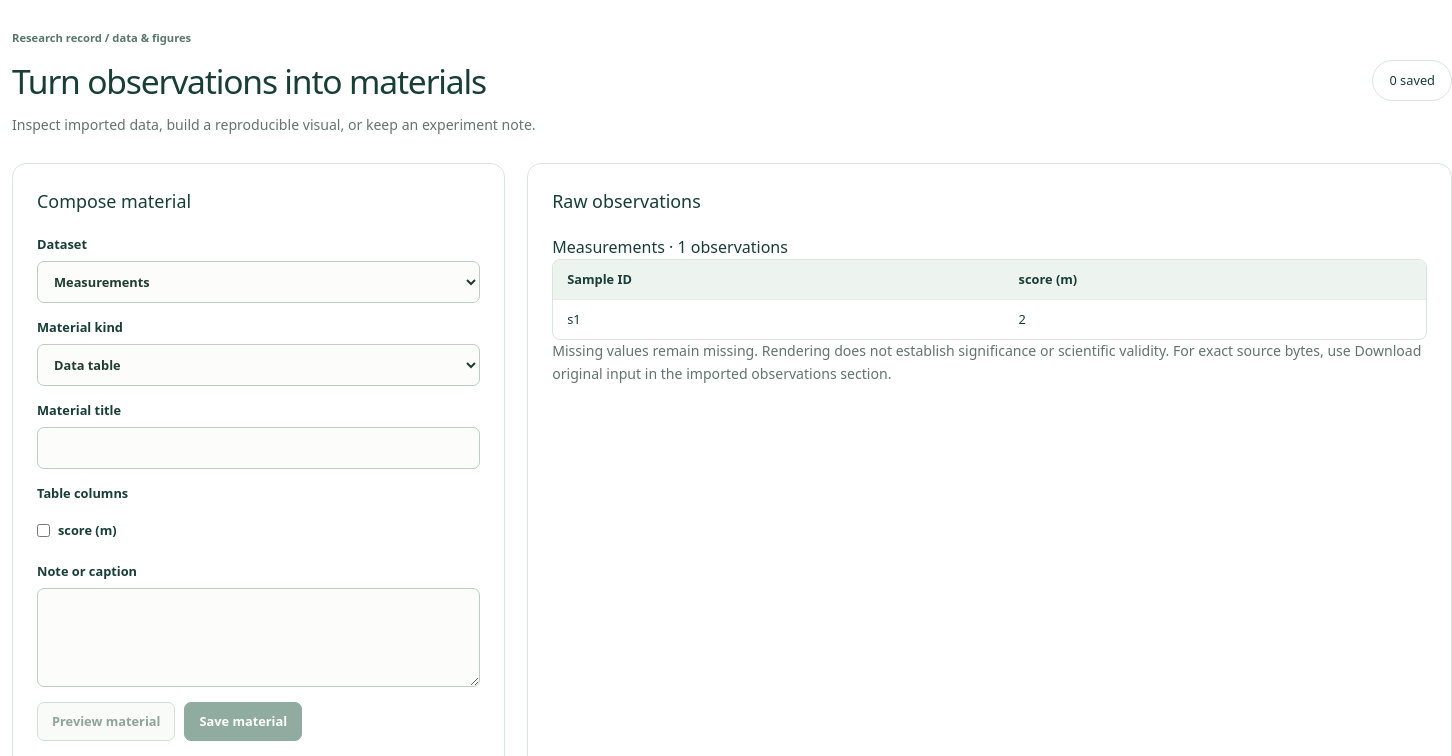
it: requires a fresh preview before saving visual material
The image size is (1452, 756).
Type "Results" into the field labelled "Material title" at (259, 448), box x1=37 y1=427 x2=480 y2=468
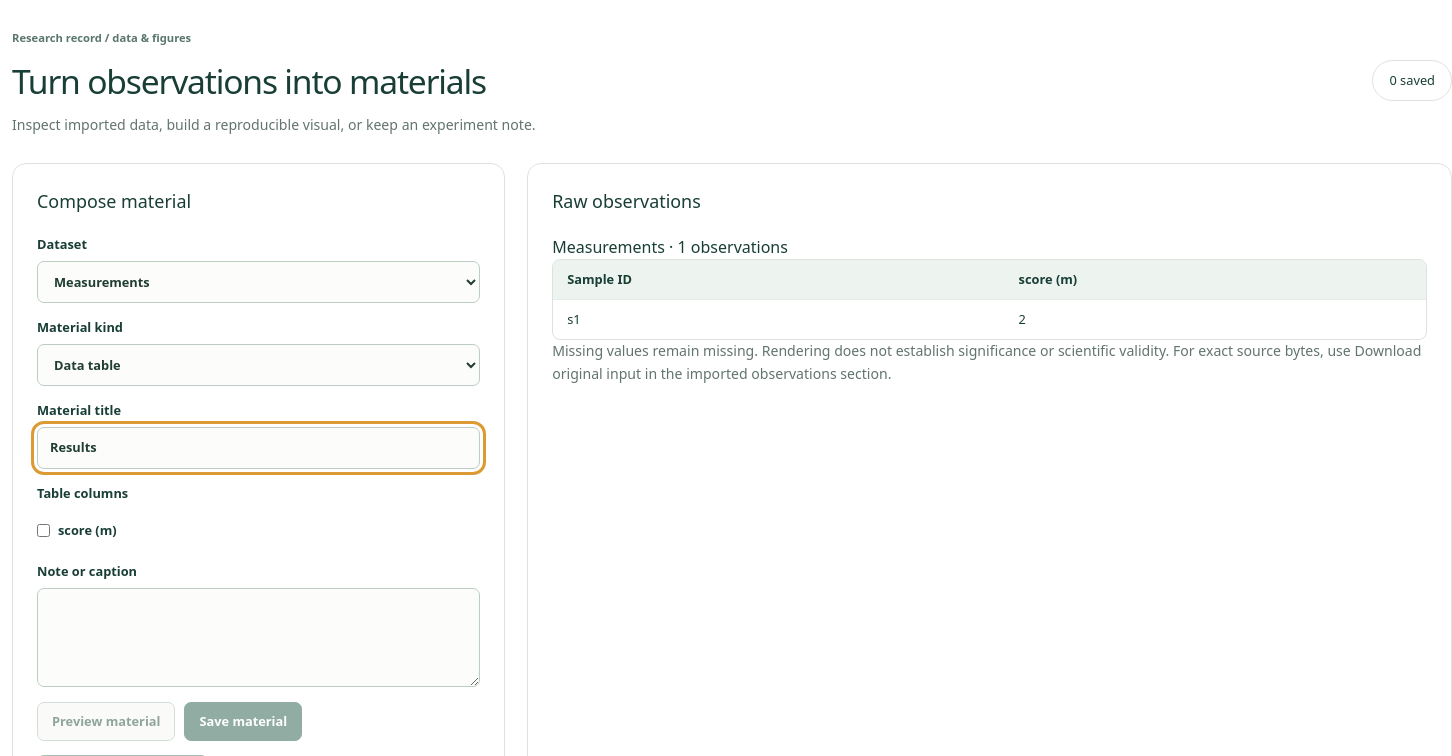
Click the checkbox labelled "score (m)" at (44, 530), box x1=37 y1=524 x2=50 y2=537
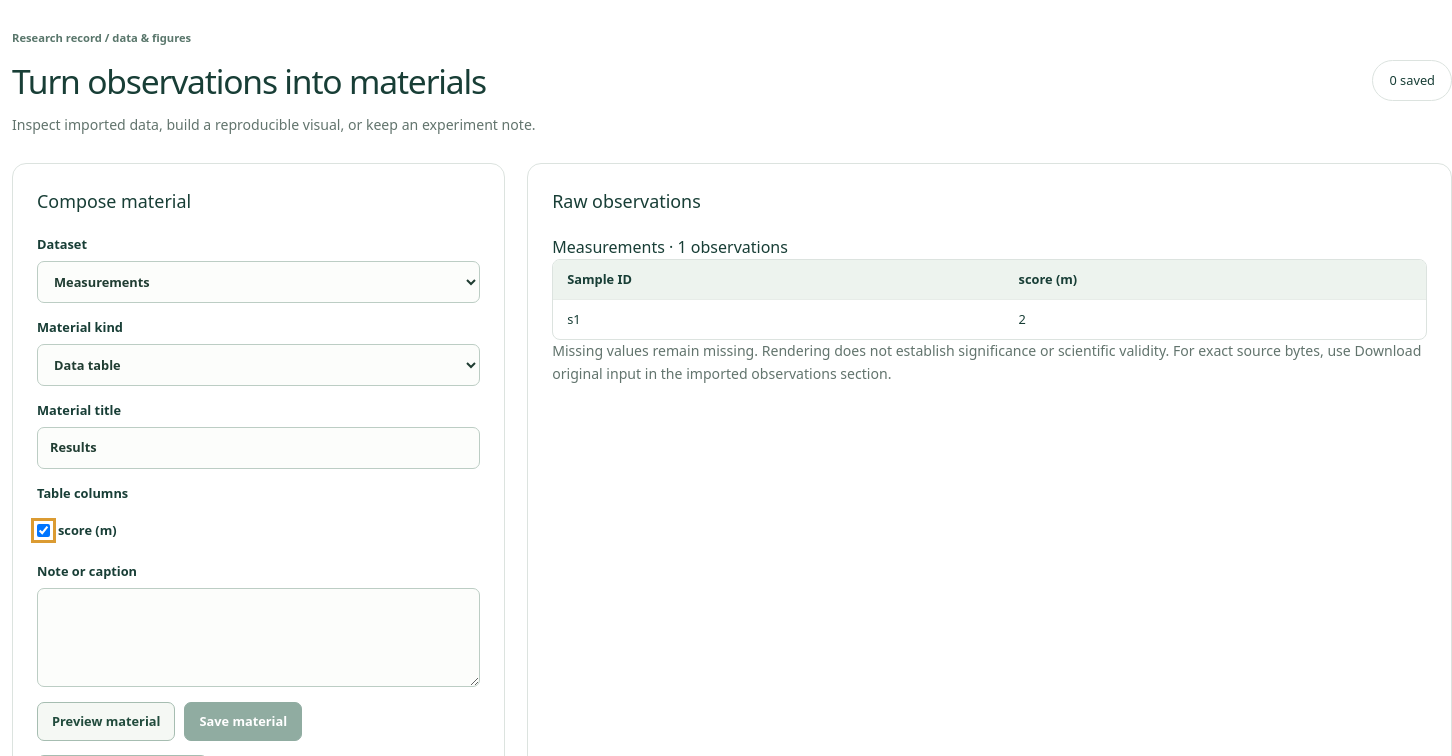
Expected: the button "Save material" is disabled, x1=184 y1=702 x2=302 y2=741
Click the button "Preview material" at (106, 721), box x1=37 y1=702 x2=175 y2=741
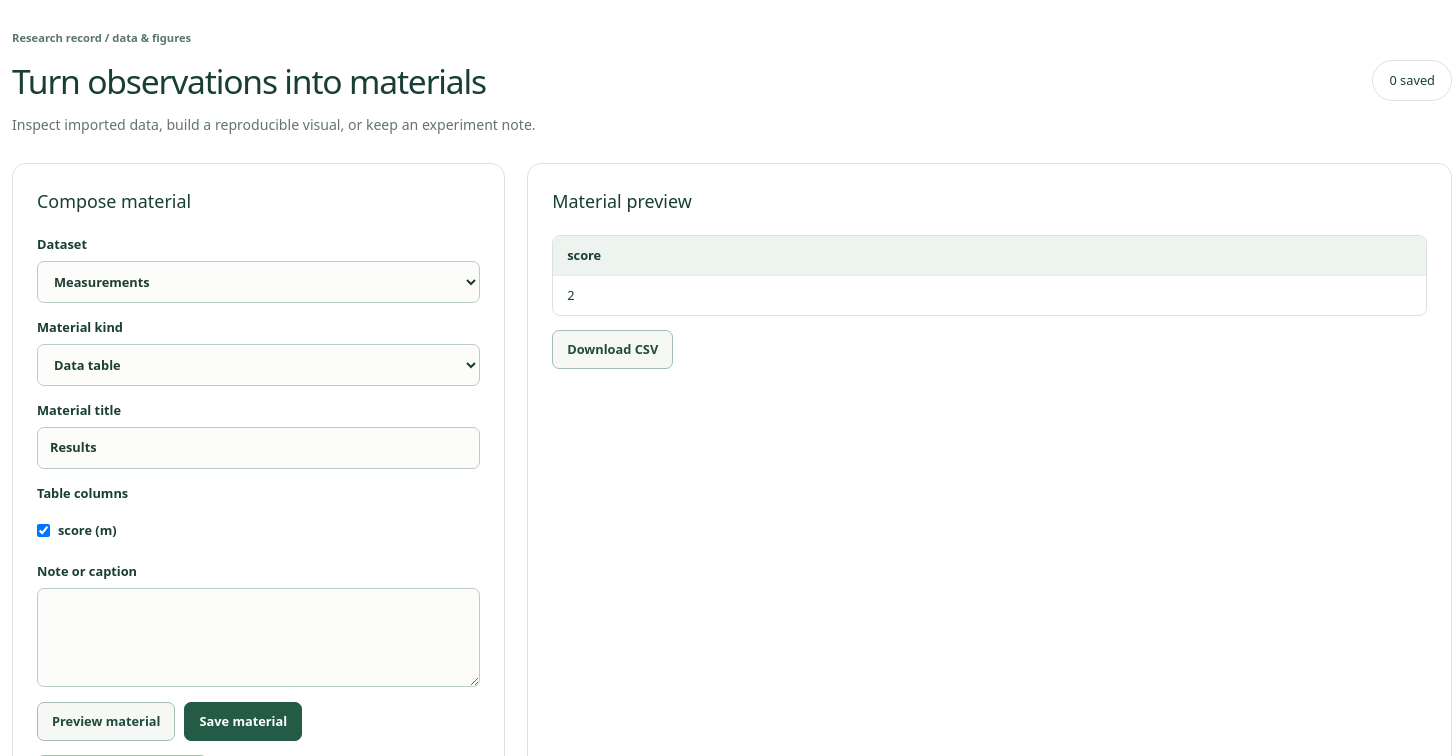
Expected: the button "Save material" is enabled, x1=184 y1=702 x2=302 y2=741
Type " revised" into the field labelled "Material title" at (259, 448), box x1=37 y1=427 x2=480 y2=468
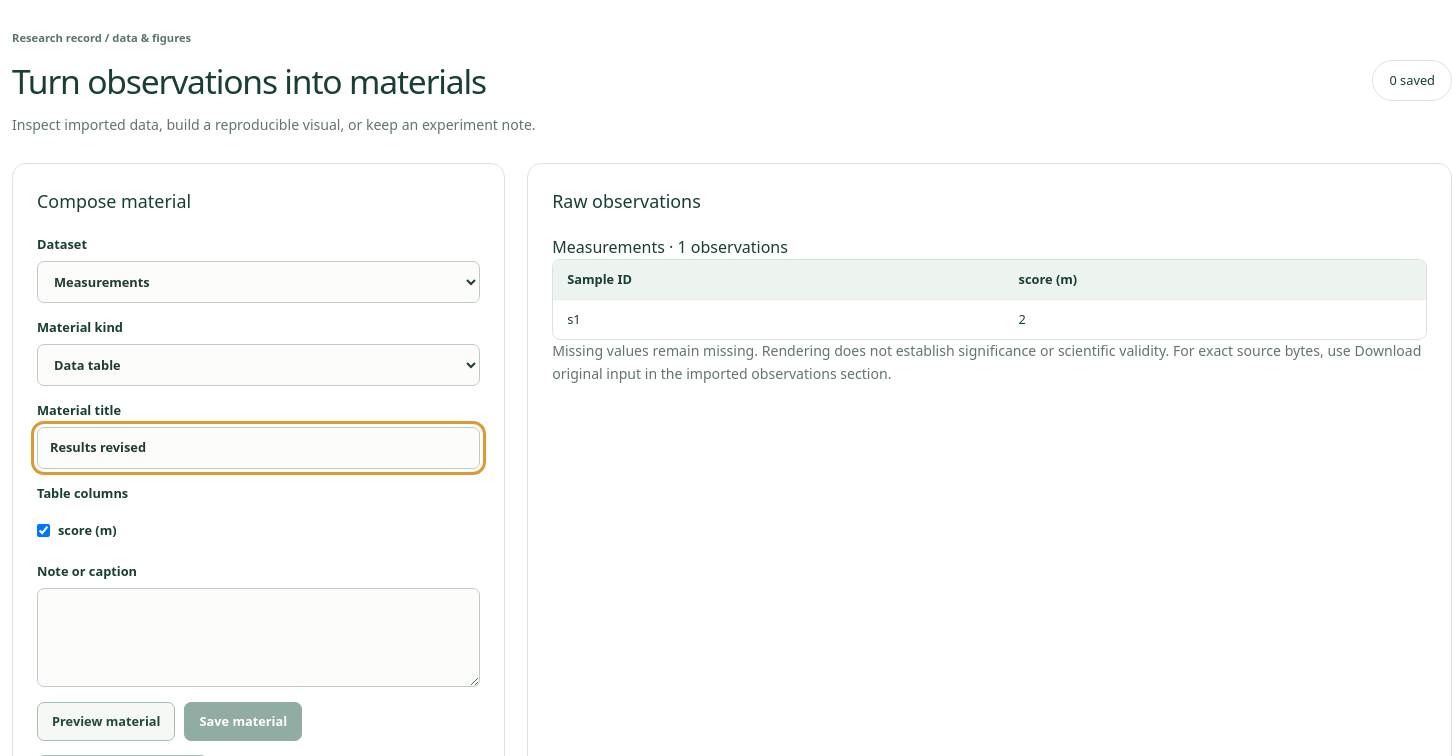
Expected: the button "Save material" is disabled, x1=184 y1=702 x2=302 y2=741
